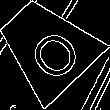O_NW: (13, 14, 79, 80)
